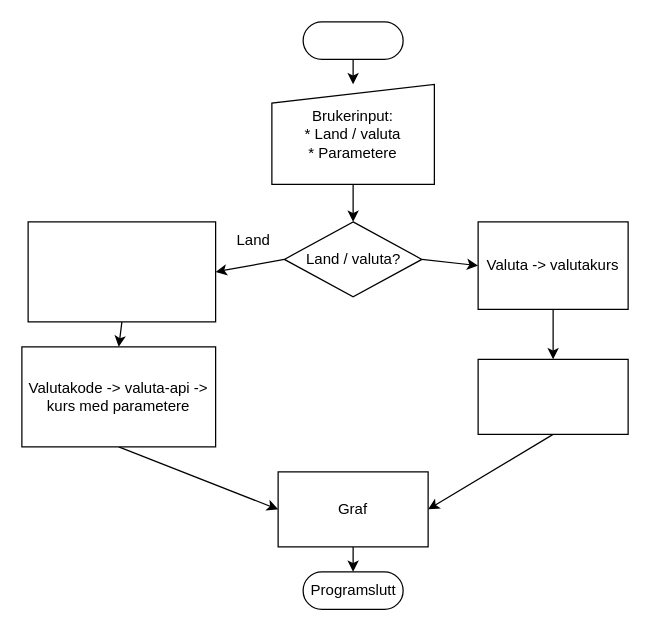
The diagram is 650 pixels wide and 631 high, and some of its shapes have lost their labels. Each missing label, with the centre of its shape:
Land api -> flagg, valutakode, valutasymbol, FIFA-kode: the point at 121,271
Programstart: the point at 352,40
Valutakode -> land-api --> symbol: the point at 552,396
